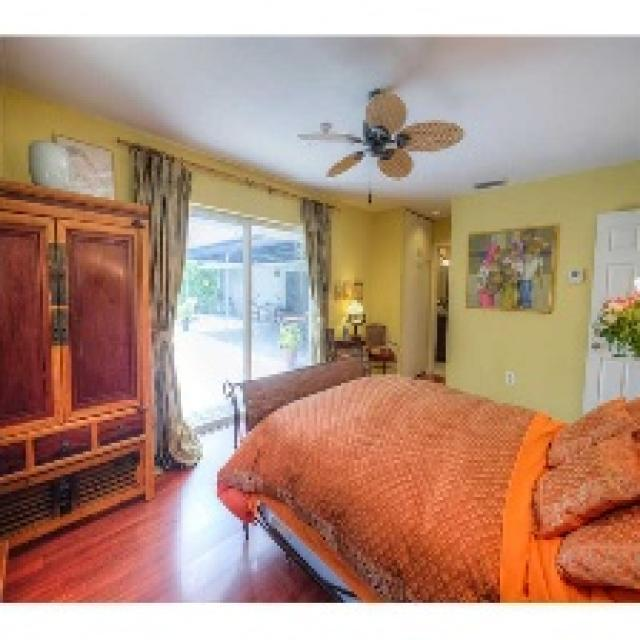bed: (210, 360, 640, 603)
cabinet: (0, 177, 151, 540)
